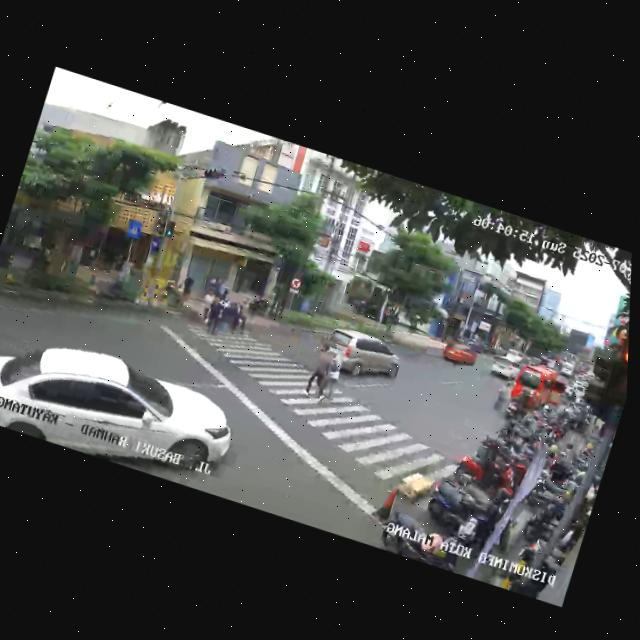car: (0, 310, 250, 496), (315, 321, 407, 393), (504, 357, 570, 426), (438, 338, 480, 374)
person: (301, 341, 338, 404), (200, 283, 231, 336), (319, 348, 349, 401), (232, 295, 253, 334)
